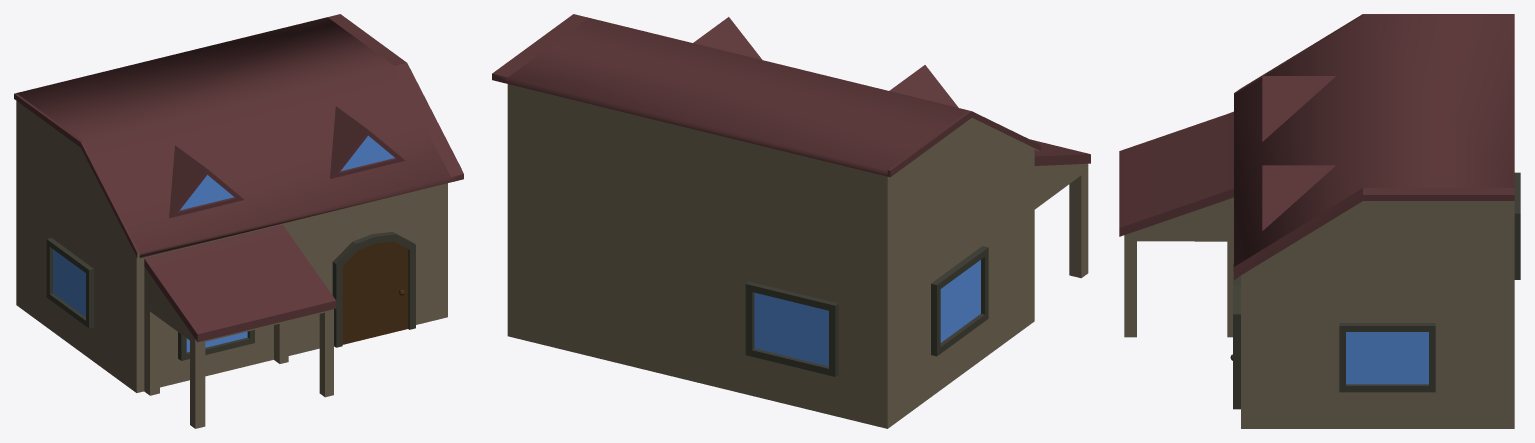
The model's file is CajaCasa 2.3.fbx.
The picture shows the model from 3 angles, left to right: view 1: azimuth 30°, elevation 25°; view 2: azimuth 150°, elevation 25°; view 3: azimuth 270°, elevation 25°; orthographic projection. The views are drawn at different scales.
Parts seen in each view (by area): view 1: Base.002; view 2: Base.002; view 3: Base.002.
Part boxes in pixels (box(x1,y1,x2,y2)): Base.002: box(14, 14, 463, 428); Base.002: box(492, 14, 1090, 428); Base.002: box(1119, 14, 1520, 428).
Bounding box in the file's own units: 871 × 536 × 809.
